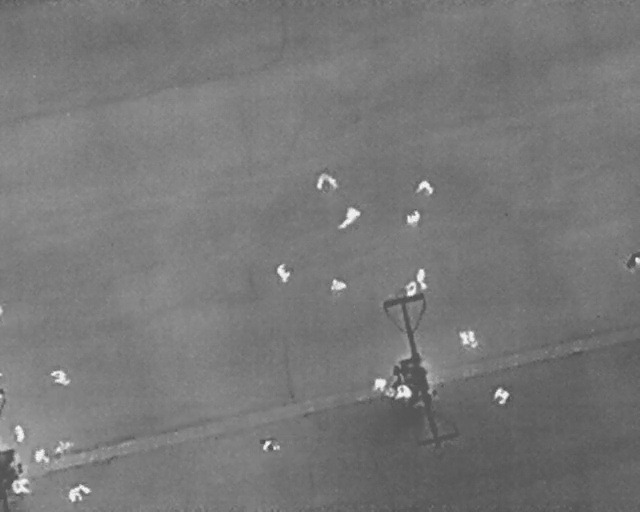Person: (332, 201, 364, 234), (67, 483, 91, 504), (314, 170, 338, 191), (491, 384, 512, 406), (48, 369, 72, 388), (625, 247, 640, 273), (258, 437, 283, 452), (415, 177, 434, 196), (329, 276, 348, 294), (11, 478, 30, 494), (275, 263, 291, 282), (396, 384, 412, 401), (417, 265, 427, 291), (32, 449, 49, 464), (406, 210, 421, 227), (12, 425, 26, 442), (403, 281, 417, 296), (374, 376, 386, 393), (468, 330, 477, 350), (457, 330, 468, 345)
